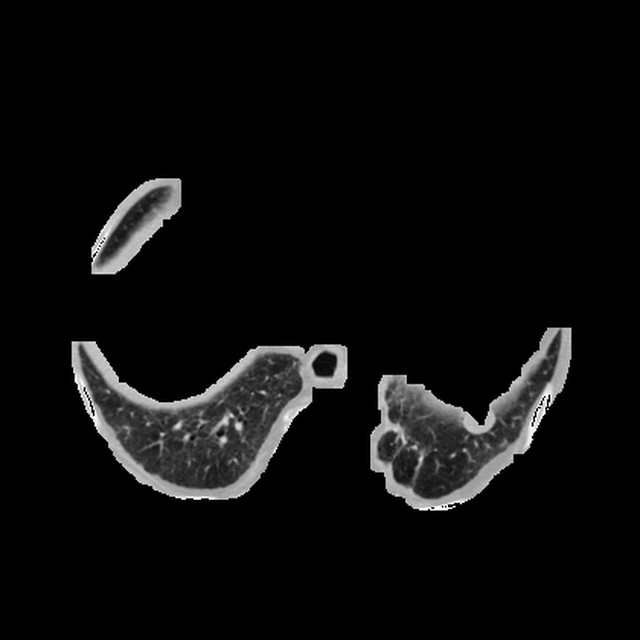PN: (465, 405, 492, 433)
